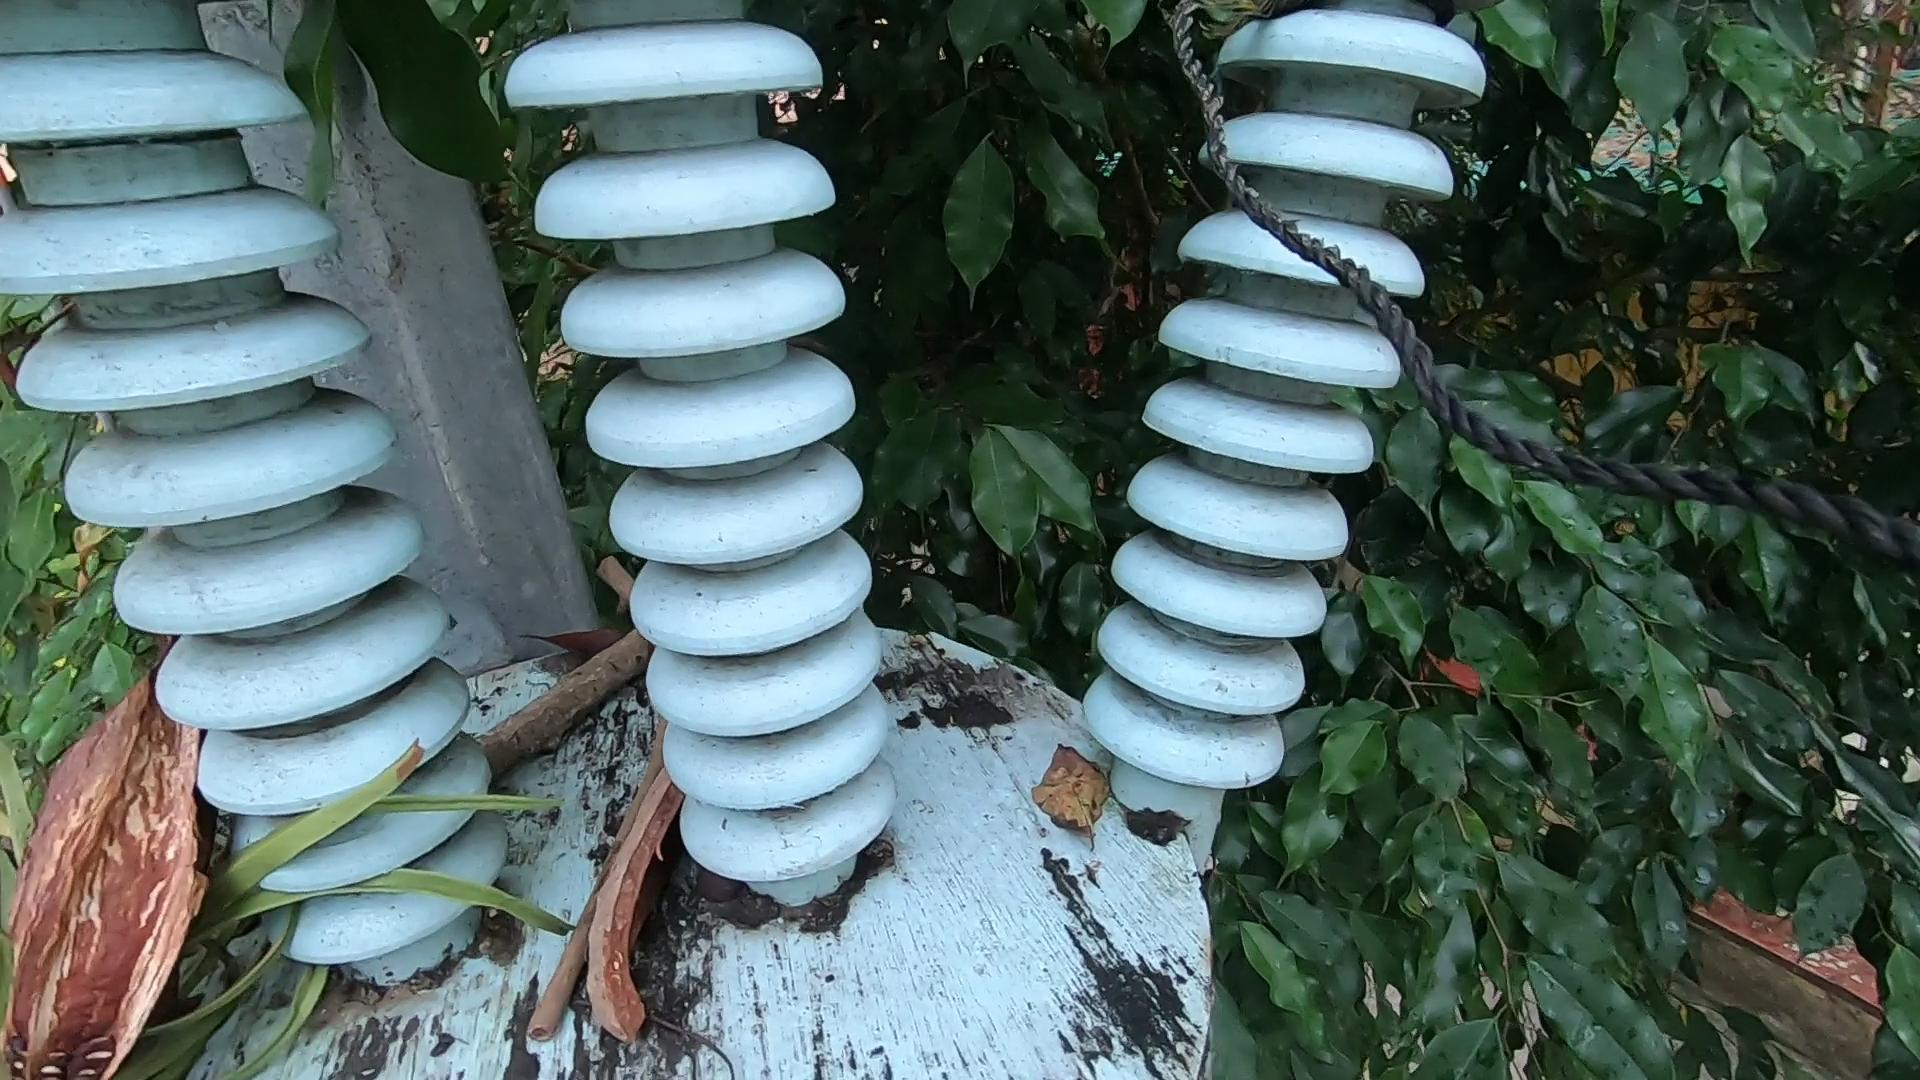branch with leaves: (65, 538, 653, 1080)
leaf: (1010, 703, 1149, 880)
mahogany fruit: (62, 688, 166, 1042), (624, 782, 680, 1058)
tree branch: (566, 516, 756, 1073)
